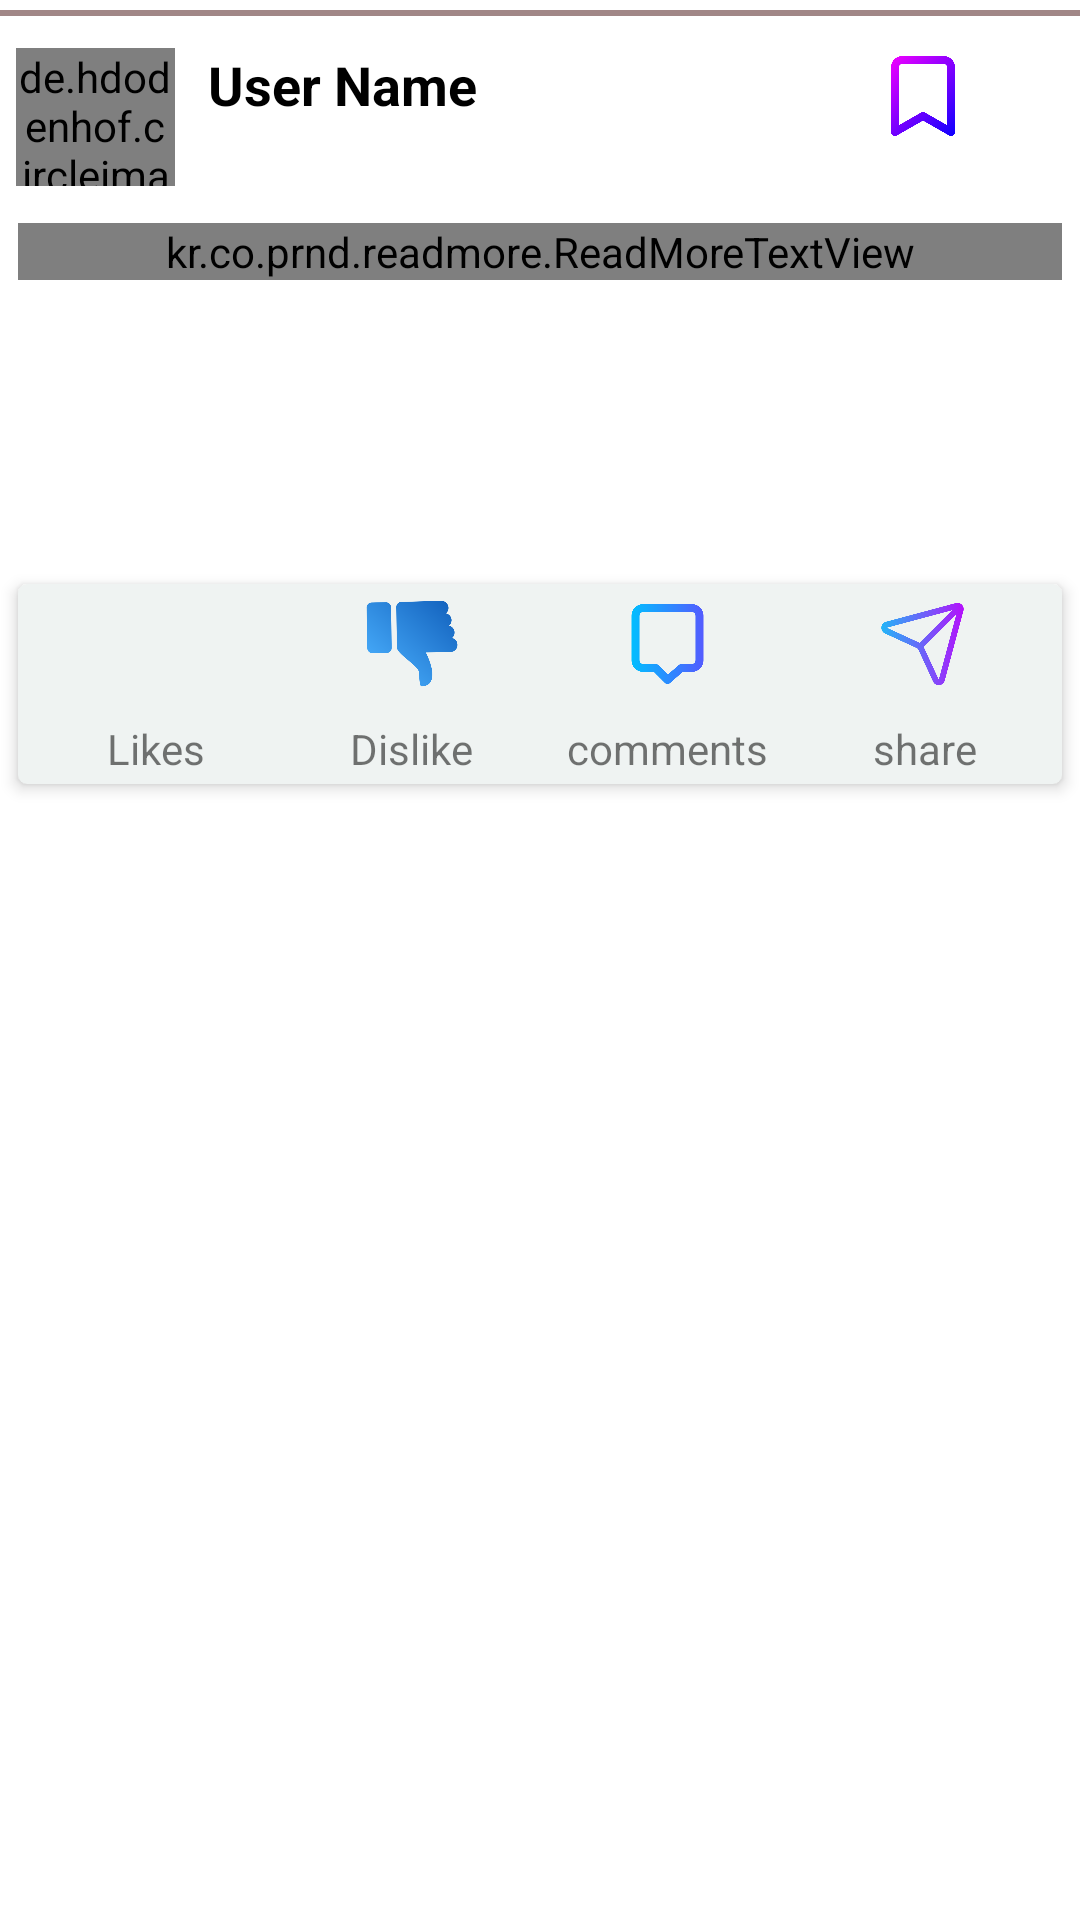

Locate icon controls on the screen. Image size 1080px x 1920px, boxes as (x1, y1, x2, y2).
bookmark: (891, 56, 955, 136)
chat: (631, 604, 704, 684)
